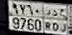0: (35, 6, 42, 33)
6: (26, 4, 34, 31)
7: (19, 3, 26, 31)
9: (11, 1, 19, 31)
D: (52, 9, 59, 33)
J: (59, 9, 67, 33)
R: (45, 8, 51, 33)
